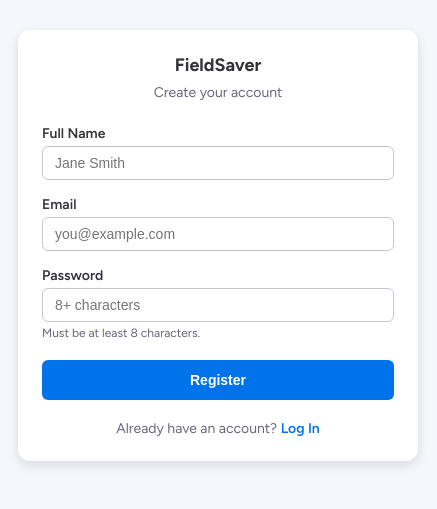
it: RegisterPage › should show error when name is empty
The width and height of the screenshot is (437, 509).
Click the button "Register" at (218, 380), box [42,360,394,400]
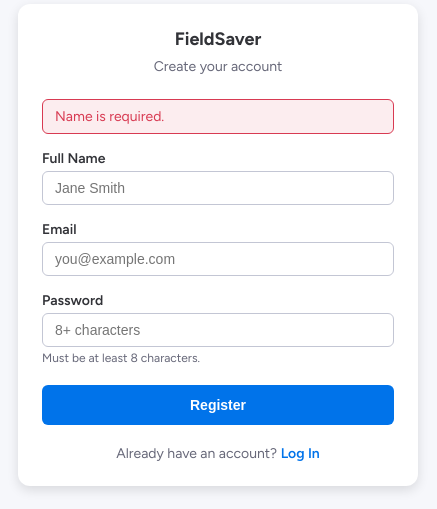
Expected: the text "Name is required." is shown, [42,99,394,134]
